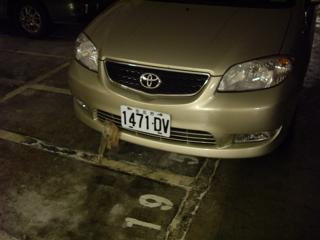plate: (119, 102, 172, 140)
